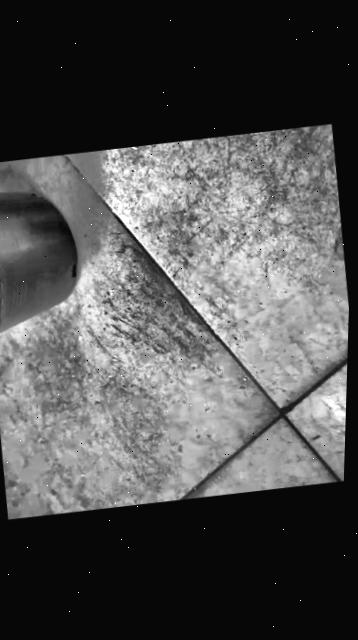pot: (0, 165, 90, 352)
